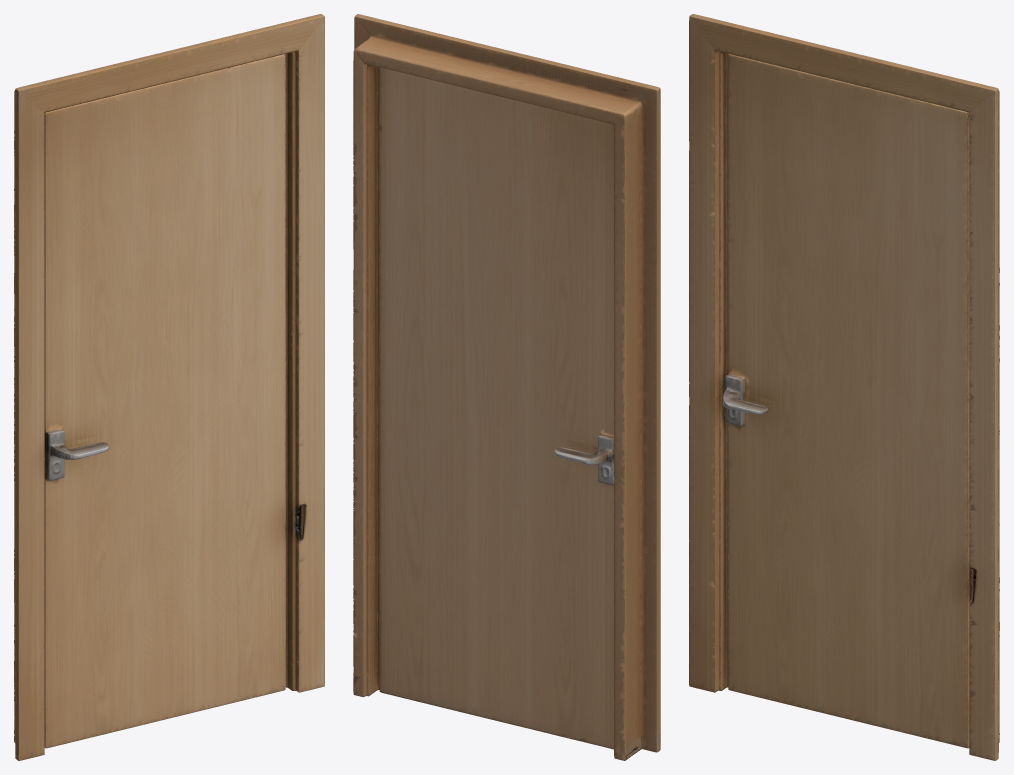
Rendered from wood single door.glb.
3 views of the same model, side by side, from view 1: azimuth 30°, elevation 25°; view 2: azimuth 150°, elevation 25°; view 3: azimuth 330°, elevation 25° (orthographic).
Parts seen in each view (by area): view 1: Mesh_0; view 2: Mesh_0; view 3: Mesh_0.
Part boxes in pixels (bbox=[...]): Mesh_0: bbox=[14, 14, 324, 760]; Mesh_0: bbox=[353, 14, 660, 760]; Mesh_0: bbox=[689, 14, 999, 760].
Bounding box in the file's own units: 0.9566 × 2 × 0.2082.
Materials: 1 (1 with a texture image).
